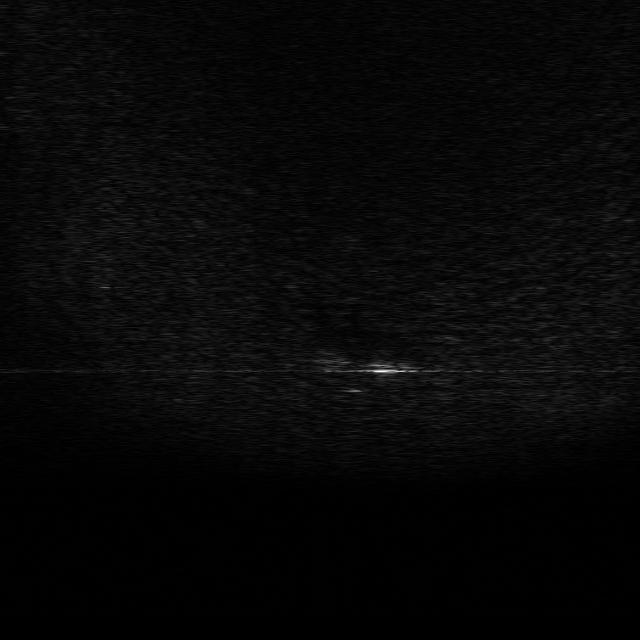plane: (315, 348, 419, 388)
